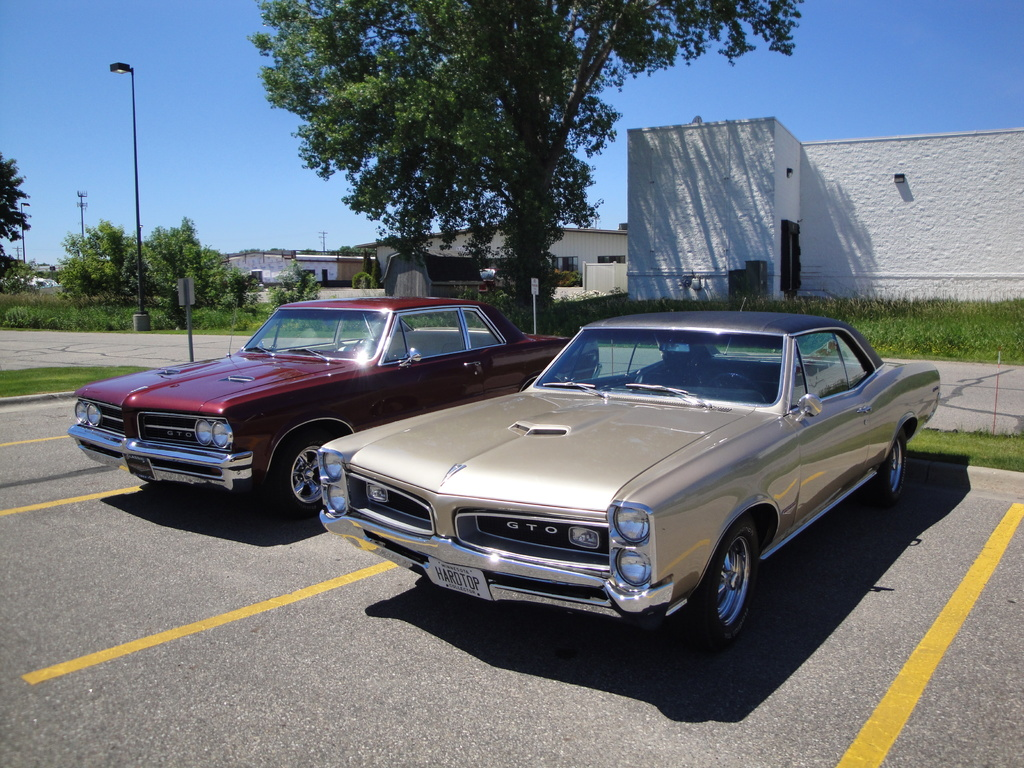Car: (314, 298, 944, 647), (68, 297, 605, 518)
